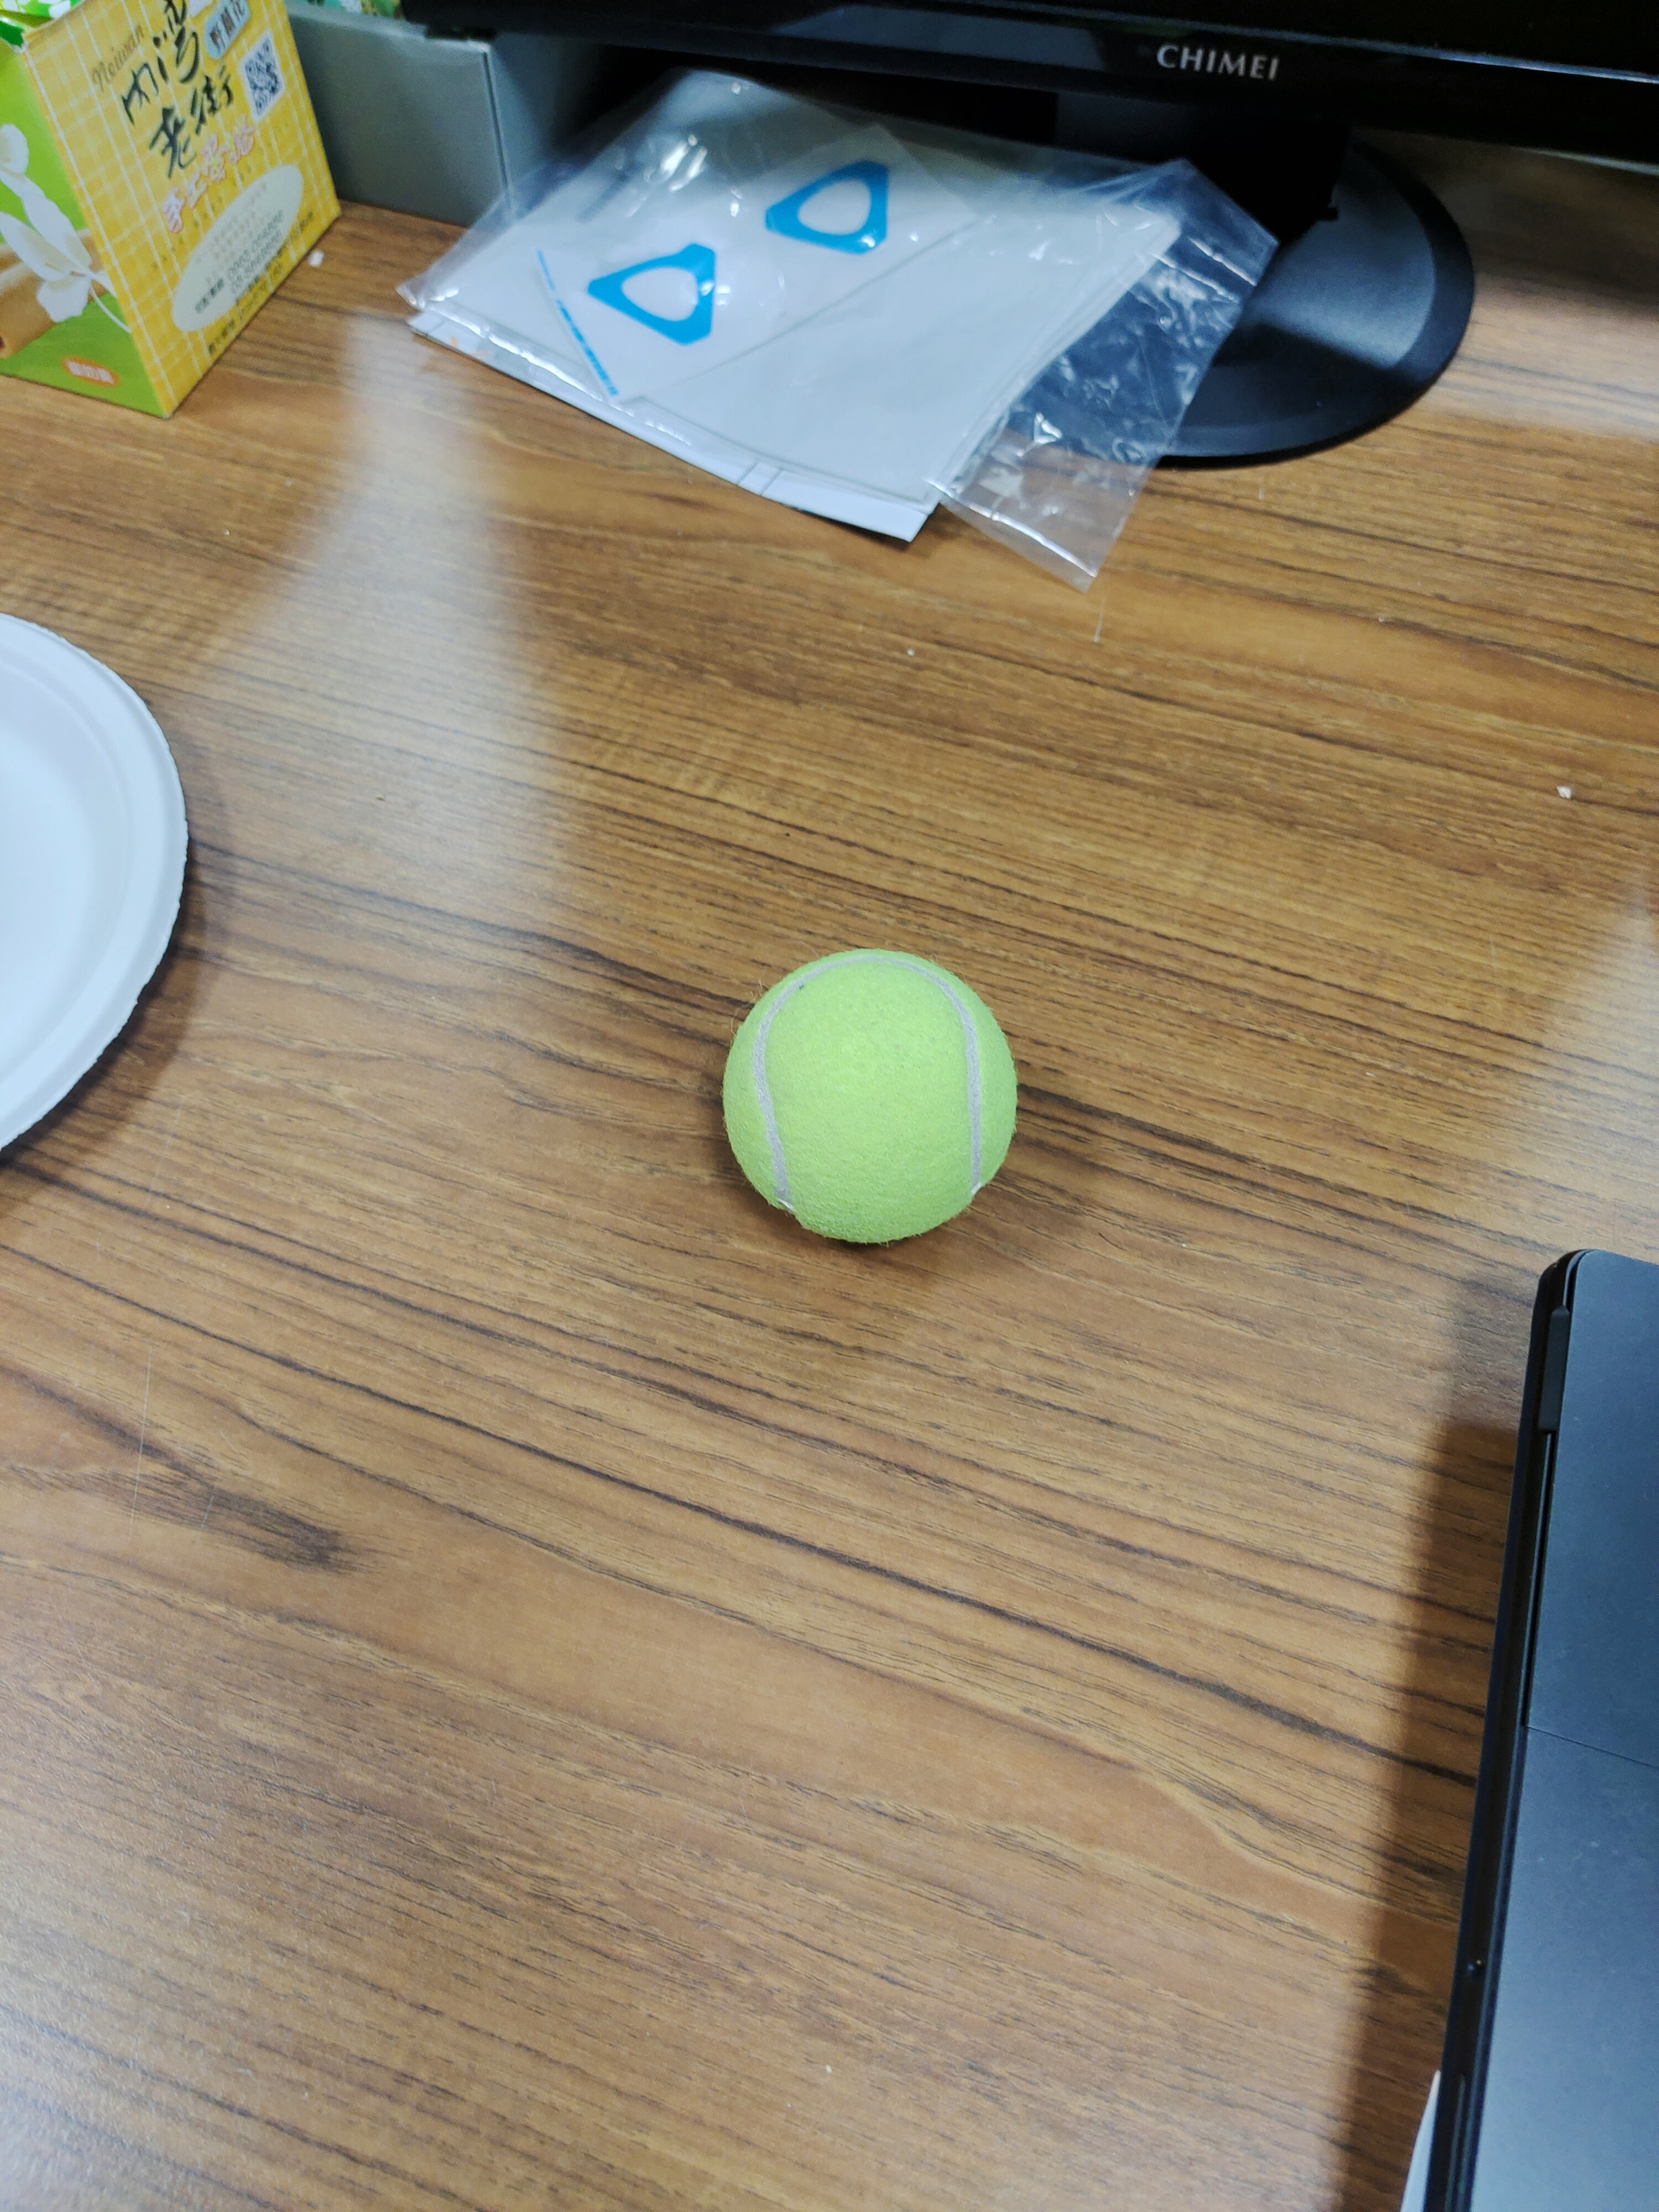tennis: (704, 930, 1033, 1258)
